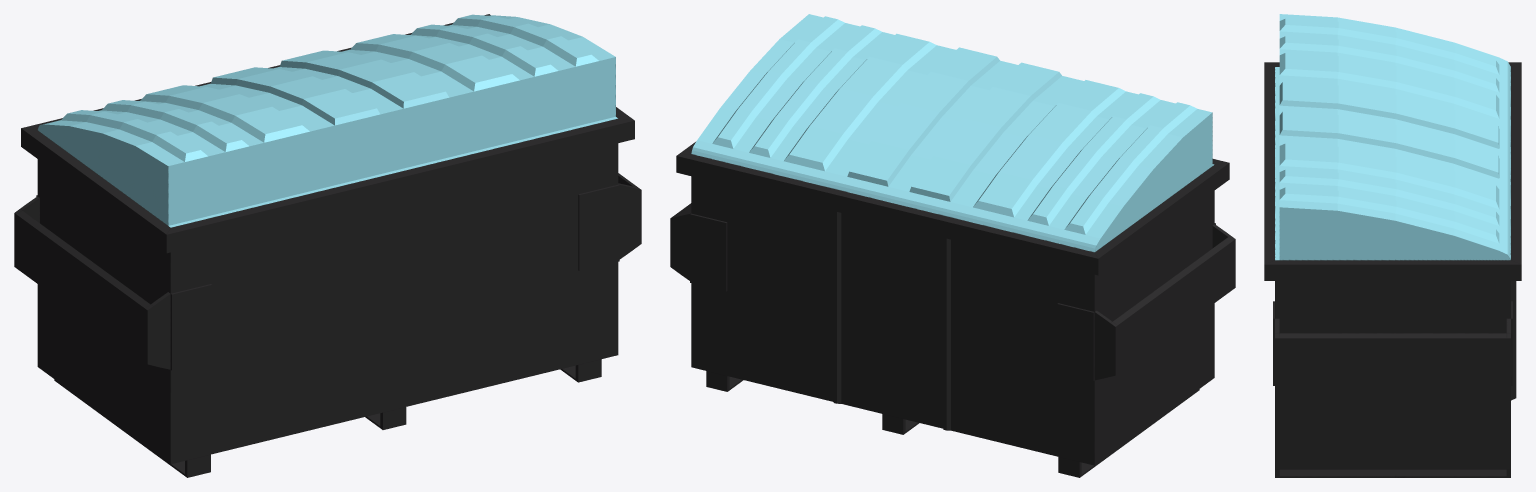
File: dumpster.fbx
The picture shows the model from 3 angles, left to right: view 1: azimuth 30°, elevation 25°; view 2: azimuth 150°, elevation 25°; view 3: azimuth 270°, elevation 25°; orthographic projection. The views are drawn at different scales.
Parts seen in each view (by area): view 1: Box004; view 2: Box004; view 3: Box004.
Boxes of the visible parts, x1,y1,x2,y2 form: Box004: (14, 14, 641, 477); Box004: (670, 14, 1235, 477); Box004: (1264, 14, 1521, 477).
Size of the model in its own units: 259 by 160 by 132.
1 material, 1 textured.
